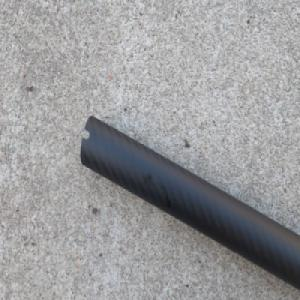LuggagePart: (79, 115, 300, 299)
